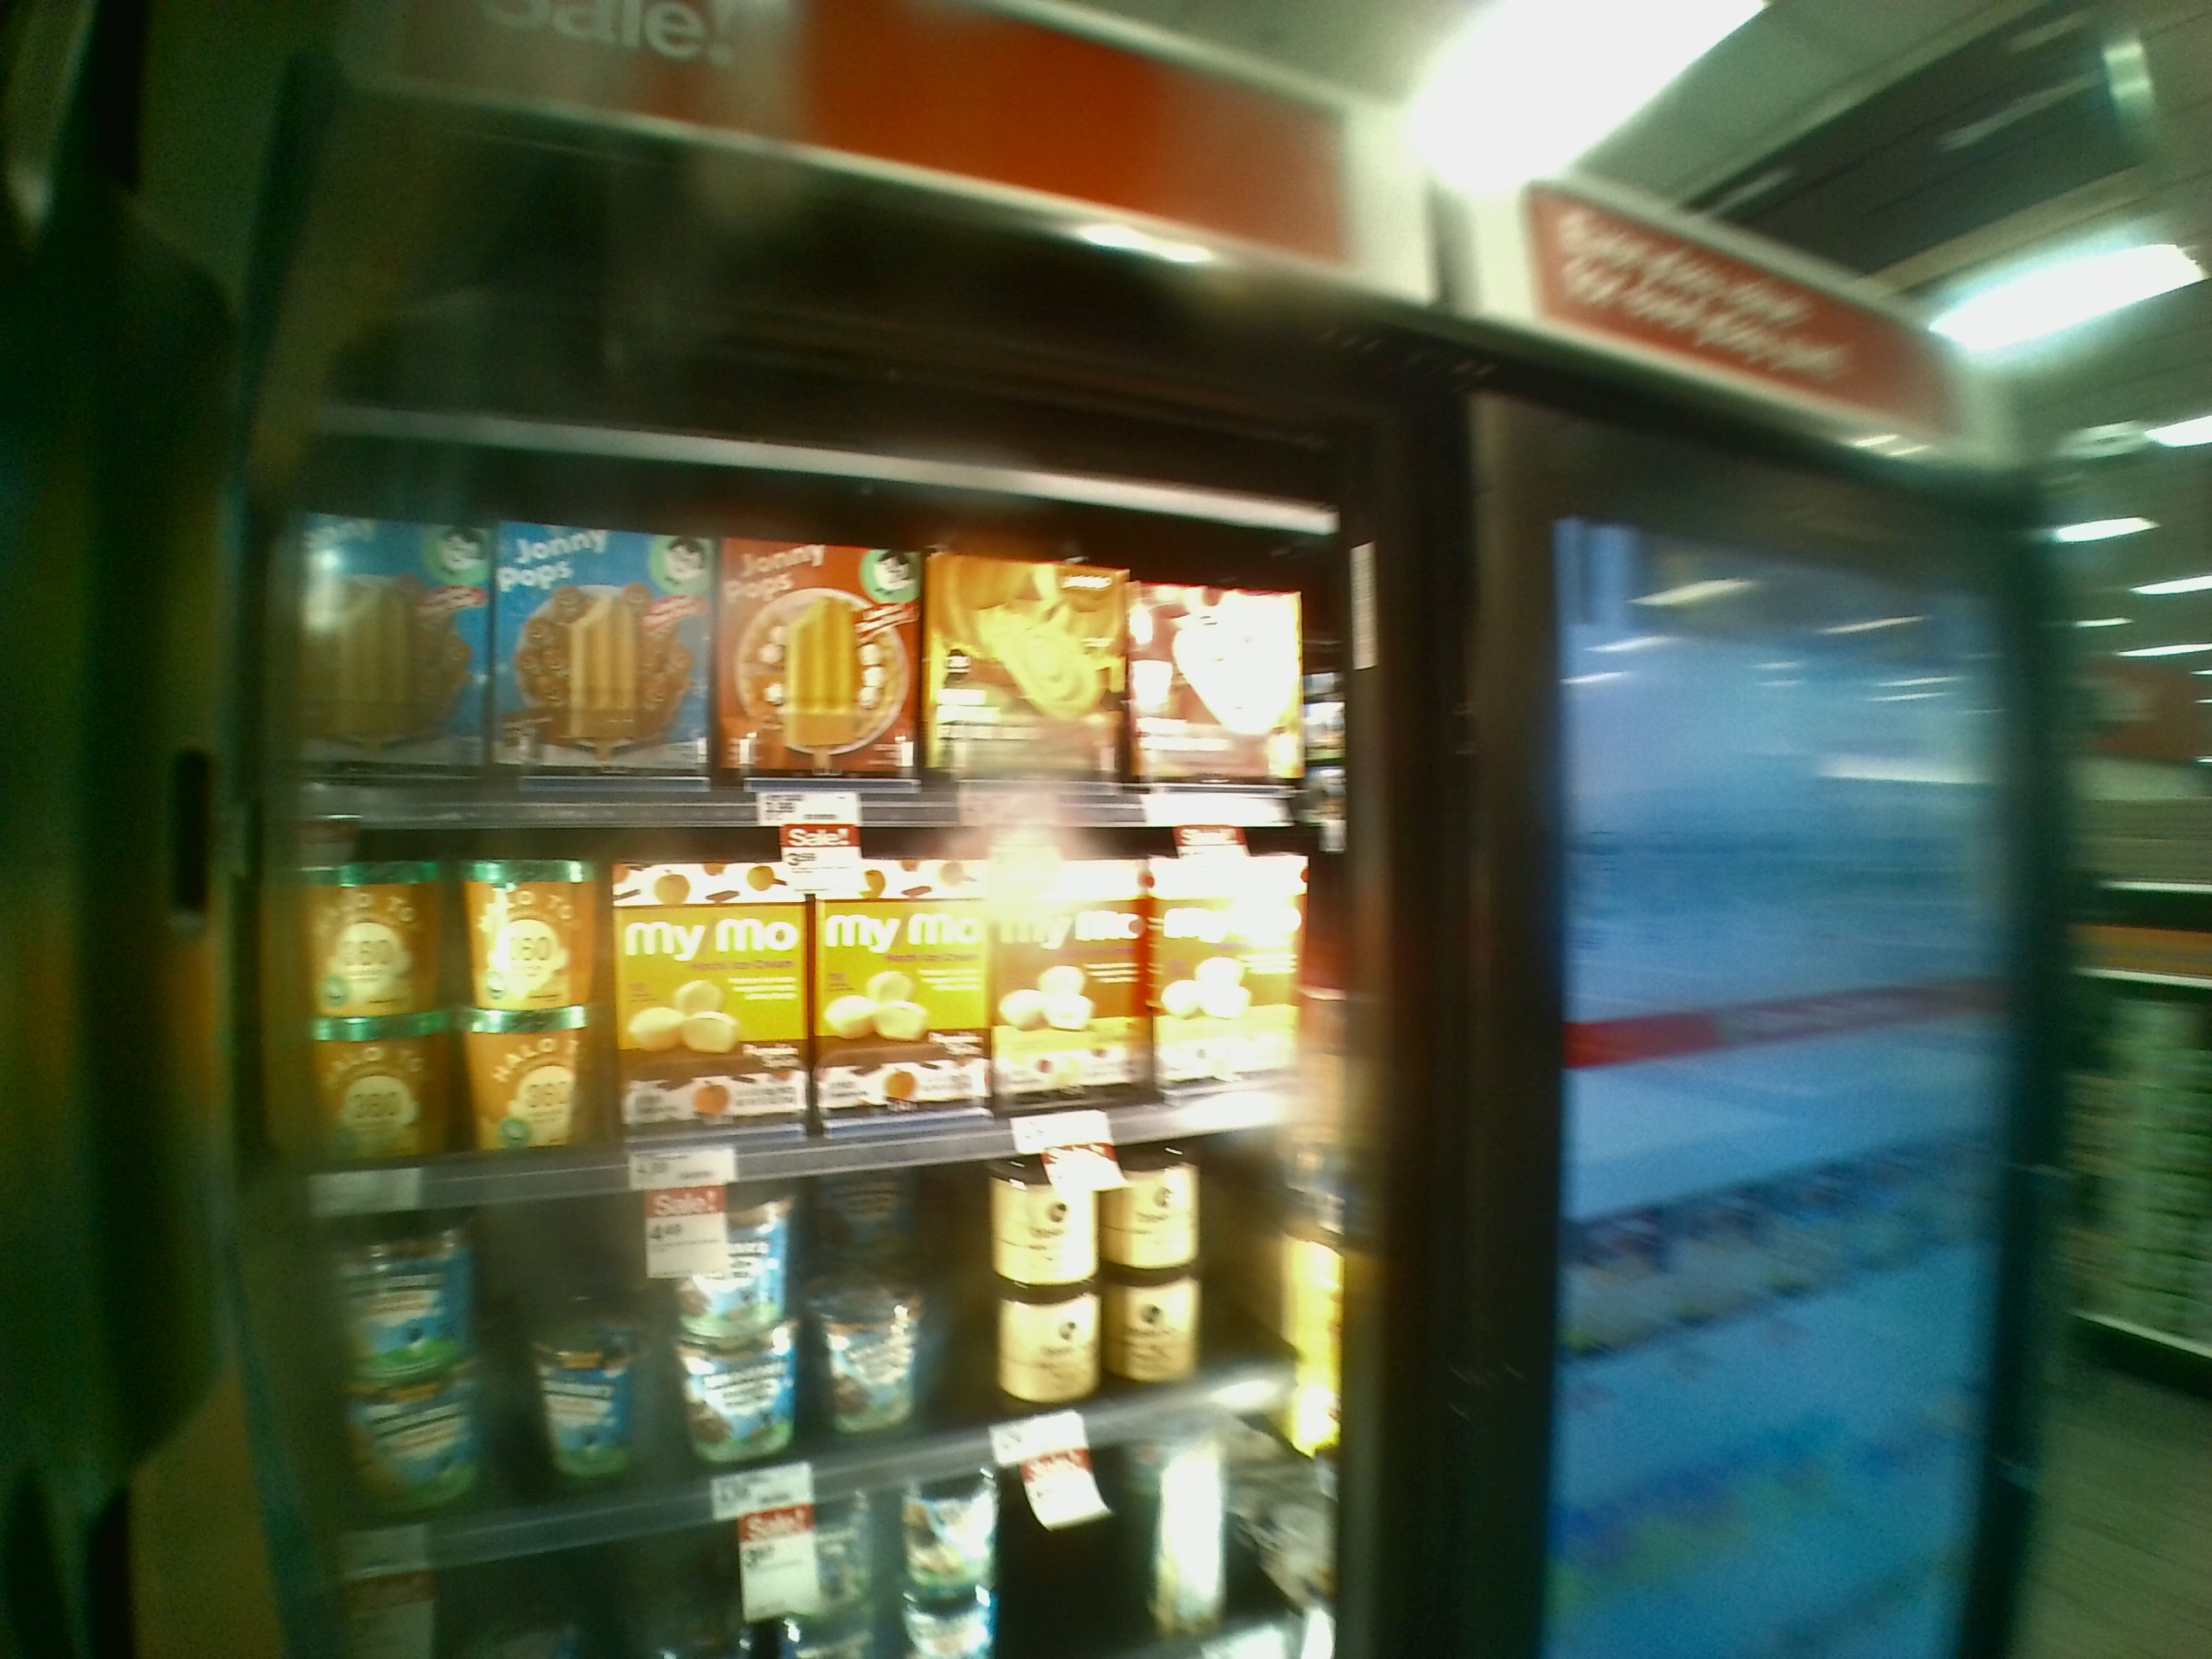shelf: (256, 444, 1346, 809), (244, 803, 1338, 1159), (242, 1171, 1343, 1511)
